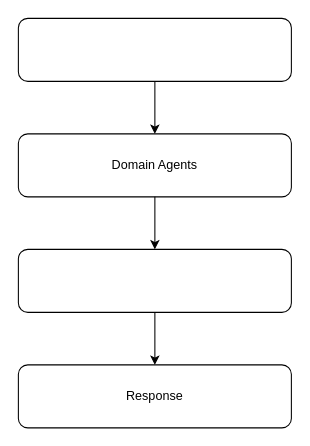
The diagram is 310 pixels wide and 446 high, and some of its shapes have lost their labels. Each missing label, with the centre of its shape:
Planner: (x=154, y=49)
Tools: (x=154, y=280)
